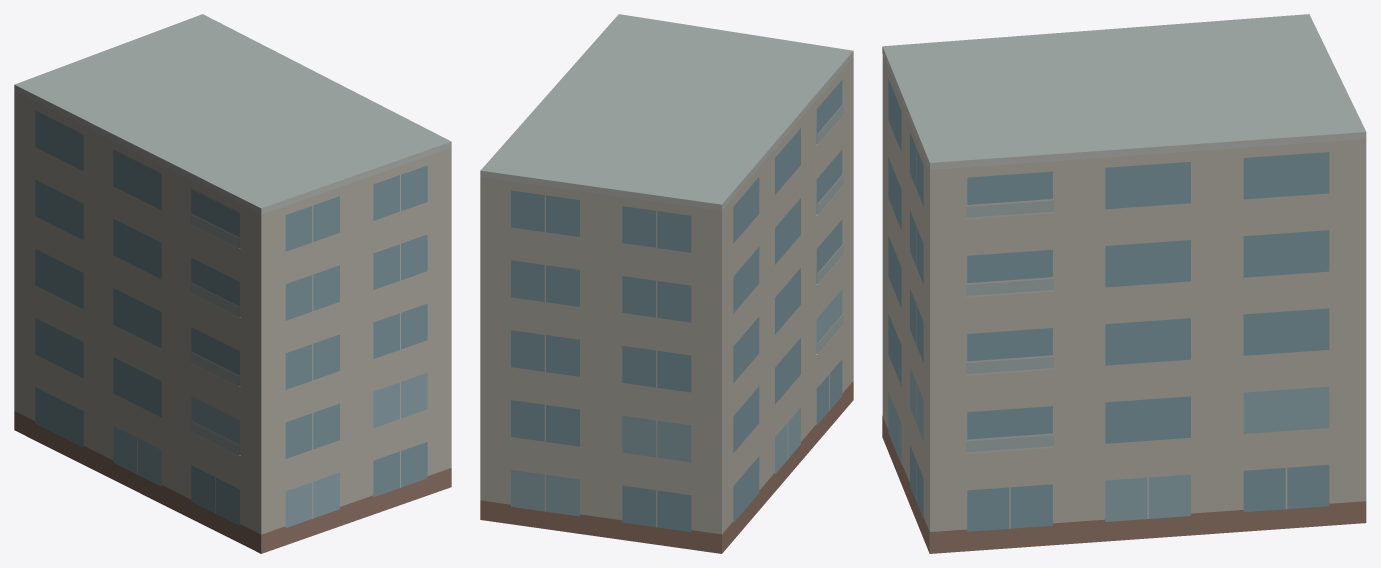
Rendered from survey-upis-32967527.glb.
3 views of the same model, side by side, from view 1: azimuth 30°, elevation 25°; view 2: azimuth 150°, elevation 25°; view 3: azimuth 270°, elevation 25° (orthographic). The views are drawn at different scales.
Parts seen in each view (by area): view 1: survey-upis-32967527.tmp; view 2: survey-upis-32967527.tmp; view 3: survey-upis-32967527.tmp.
Boxes of the visible parts, bbox=[...] form: survey-upis-32967527.tmp: bbox=[14, 14, 451, 553]; survey-upis-32967527.tmp: bbox=[480, 14, 853, 553]; survey-upis-32967527.tmp: bbox=[882, 14, 1366, 553].
Bounding box in the file's own units: 11.04 × 13.5 × 15.16.
